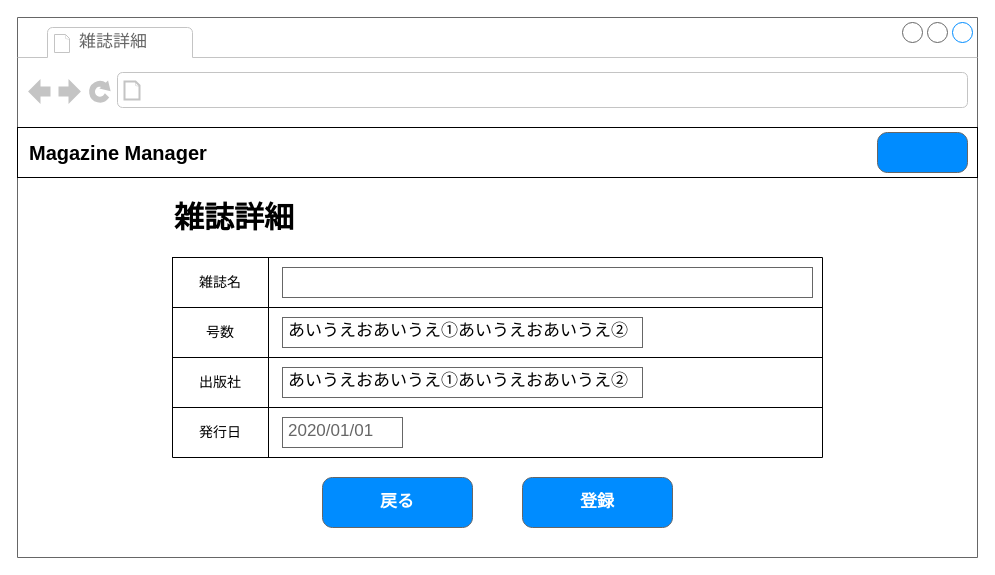
This 995x575 diagram has some shape labels left out. Here are the shapes that lost their labels. From the top down, the centre of each, then its label:
At (x=272, y=90): "http://localhost:8080/detail/1".
At (x=922, y=152): "ログアウト".
At (x=547, y=282): "あいうえおあいうえ①あいうえおあいうえ②あいうえおあいうえ③".
